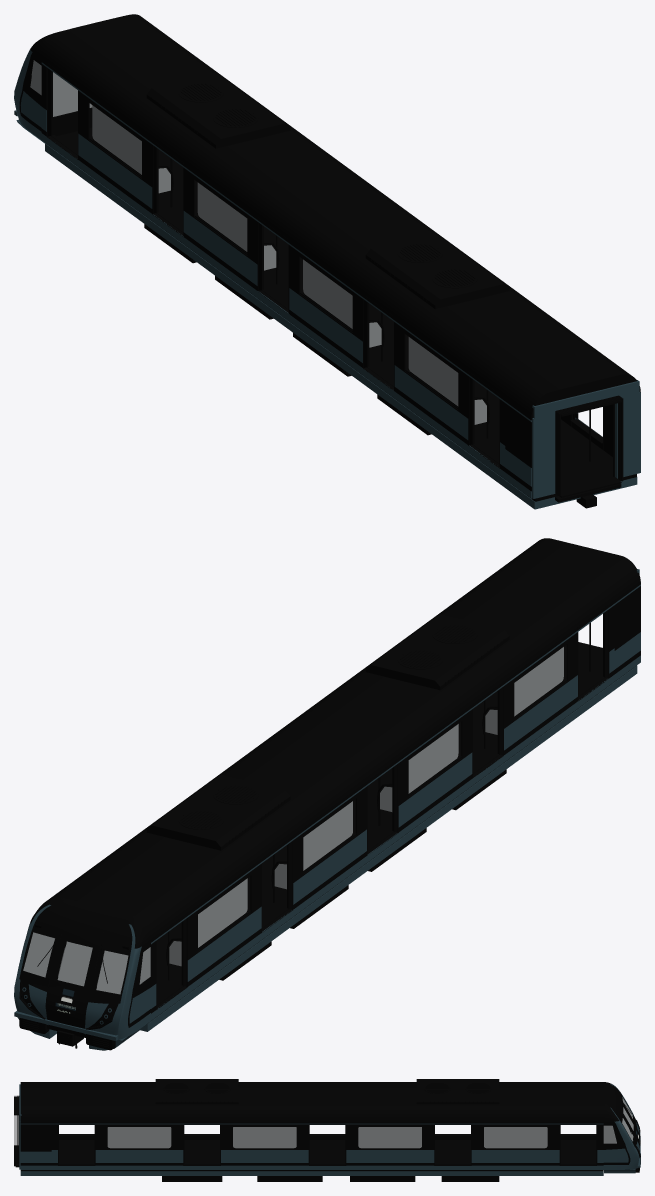
Rendered from cab.obj.
3 views of the same model, one above another, from view 1: azimuth 30°, elevation 25°; view 2: azimuth 150°, elevation 25°; view 3: azimuth 270°, elevation 25° (orthographic). The views are drawn at different scales.
Parts seen in each view (by area): view 1: shell, interior, window, interior_soft_white; view 2: shell, interior, window, cab_glazing, interior_soft_white; view 3: shell, interior, window, interior_soft_white, cab_glazing.
Boxes of the visible parts, box(x1,y1,x2,y2) form: shell: box(14, 14, 640, 509); interior: box(30, 70, 636, 501); window: box(53, 72, 486, 424); interior_soft_white: box(30, 68, 630, 456); shell: box(14, 538, 640, 1050); interior: box(46, 611, 636, 1037); window: box(58, 647, 563, 994); cab_glazing: box(23, 932, 150, 994); interior_soft_white: box(22, 610, 608, 986); shell: box(14, 1079, 640, 1181); interior: box(14, 1124, 633, 1171); window: box(107, 1127, 547, 1148); interior_soft_white: box(14, 1096, 634, 1140); cab_glazing: box(603, 1097, 633, 1143).
Bounding box in the file's own units: 3 × 3.64 × 24.99.
